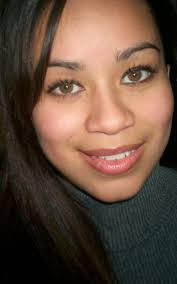black_female: (10, 2, 177, 207)
